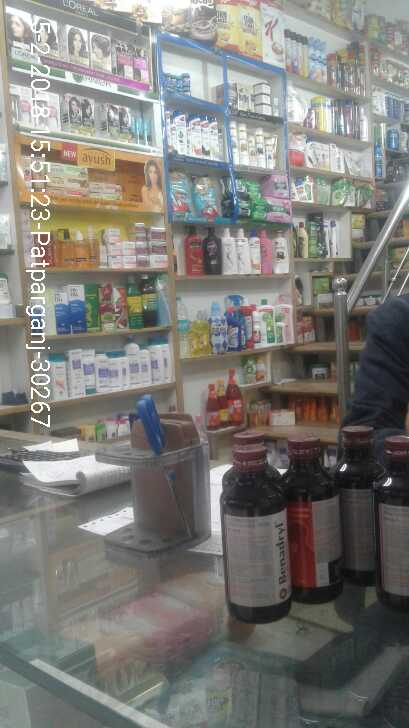beauty: (172, 110, 187, 155), (190, 112, 201, 158), (202, 114, 210, 159), (210, 117, 218, 160), (256, 129, 265, 167), (266, 130, 275, 168), (231, 122, 239, 164), (240, 124, 247, 165), (249, 135, 256, 166), (239, 96, 250, 110), (256, 106, 272, 115), (257, 83, 270, 94), (256, 95, 271, 104), (238, 85, 248, 94)
pharmacy: (168, 169, 194, 214), (194, 175, 218, 213), (163, 72, 192, 95), (266, 199, 290, 218), (230, 200, 250, 218), (271, 177, 288, 198), (227, 178, 247, 194), (248, 182, 262, 193)
